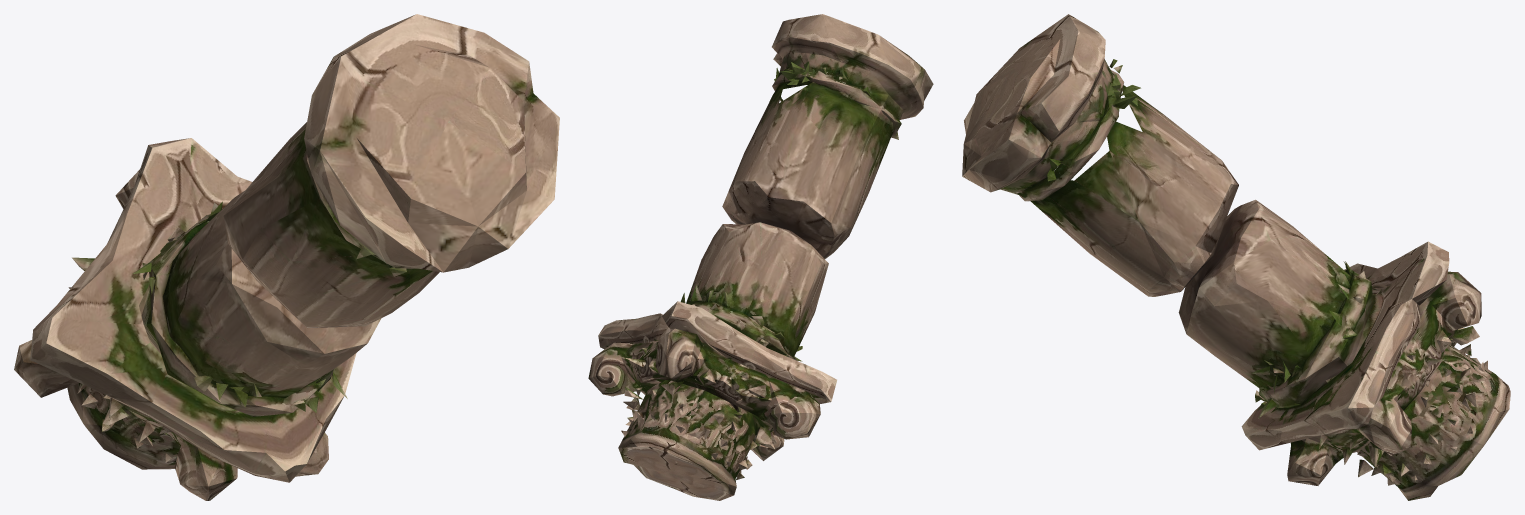
File: ruin_column.glb
The picture shows the model from 3 angles, left to right: view 1: azimuth 30°, elevation 25°; view 2: azimuth 150°, elevation 25°; view 3: azimuth 270°, elevation 25°; orthographic projection. The views are drawn at different scales.
Parts seen in each view (by area): view 1: Mesh; view 2: Mesh; view 3: Mesh.
Part boxes in pixels (x1=…): Mesh: x1=14, y1=14, x2=559, y2=500; Mesh: x1=588, y1=14, x2=933, y2=500; Mesh: x1=962, y1=14, x2=1510, y2=500.
Size of the model in its own units: 0.5991 by 0.9395 by 1.
Materials: 1 (1 with a texture image).
